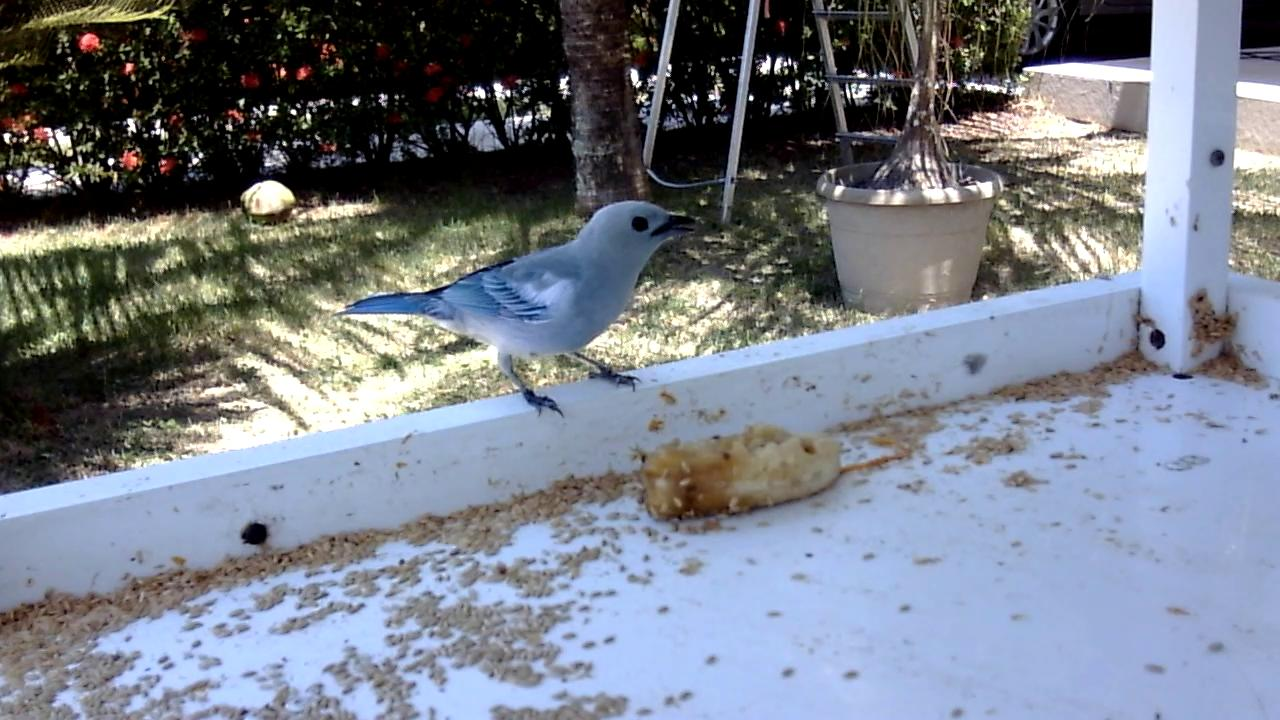sanhaco_da_amazonia: (336, 200, 701, 420)
